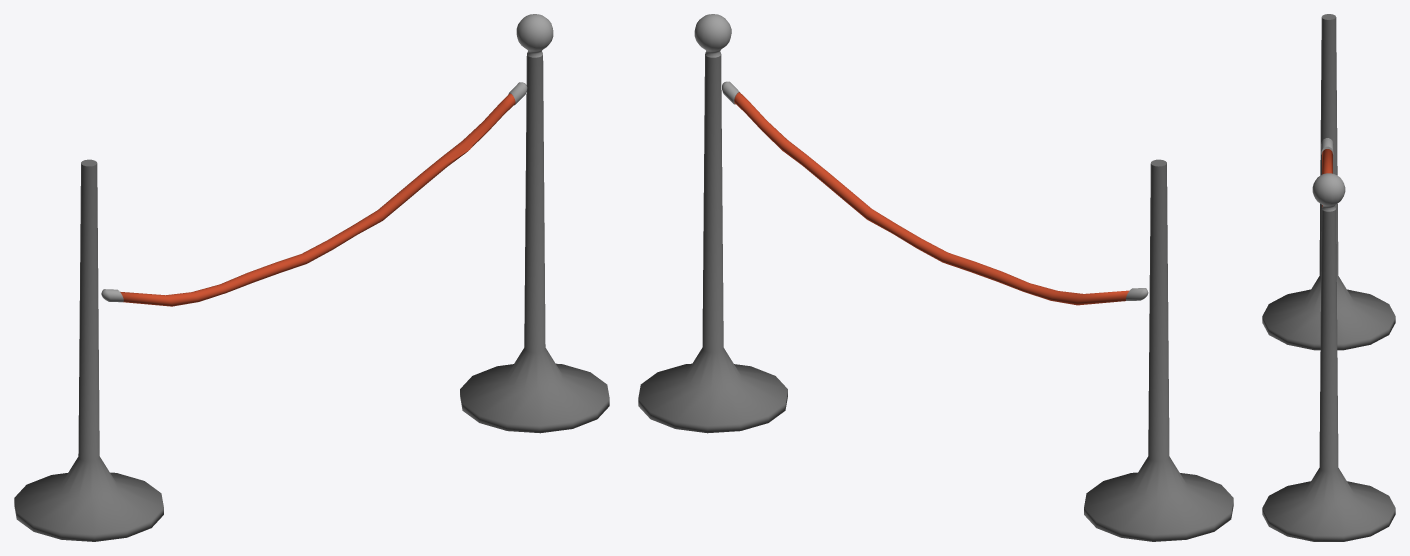
Rendered from MuseumBarrier_Damaged1.fbx.
The picture shows the model from 3 angles, left to right: view 1: azimuth 30°, elevation 25°; view 2: azimuth 150°, elevation 25°; view 3: azimuth 270°, elevation 25°; orthographic projection. The views are drawn at different scales.
Visible parts, largest first — view 1: MuseumBarrier_Damaged1; view 2: MuseumBarrier_Damaged1; view 3: MuseumBarrier_Damaged1.
Boxes of the visible parts, x1=… form: MuseumBarrier_Damaged1: x1=14, y1=14, x2=609, y2=541; MuseumBarrier_Damaged1: x1=638, y1=14, x2=1233, y2=541; MuseumBarrier_Damaged1: x1=1262, y1=14, x2=1395, y2=541.
Size of the model in its own units: 233 by 150 by 53.32.
